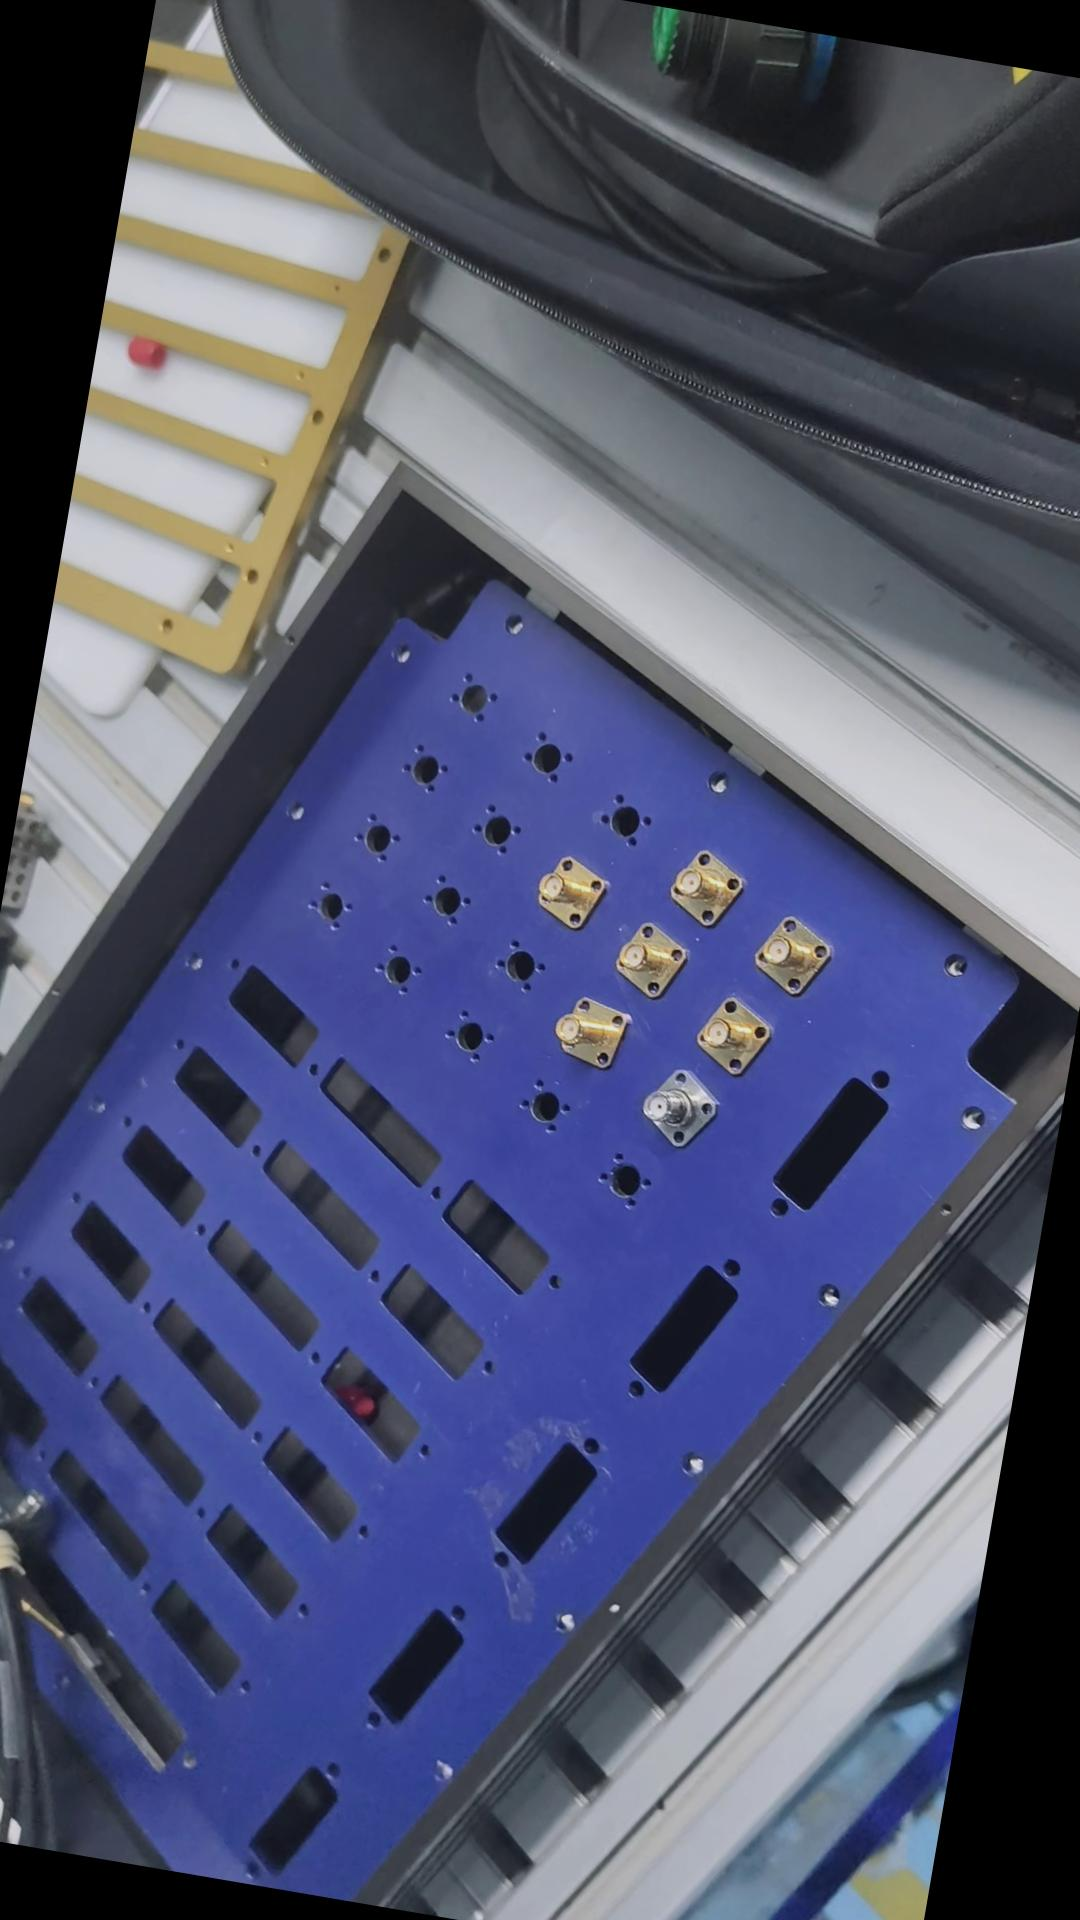SMA: (630, 1058, 724, 1151), (604, 914, 698, 1005), (524, 848, 616, 938), (742, 913, 836, 998), (687, 992, 778, 1077), (541, 986, 629, 1073), (659, 840, 745, 930)
